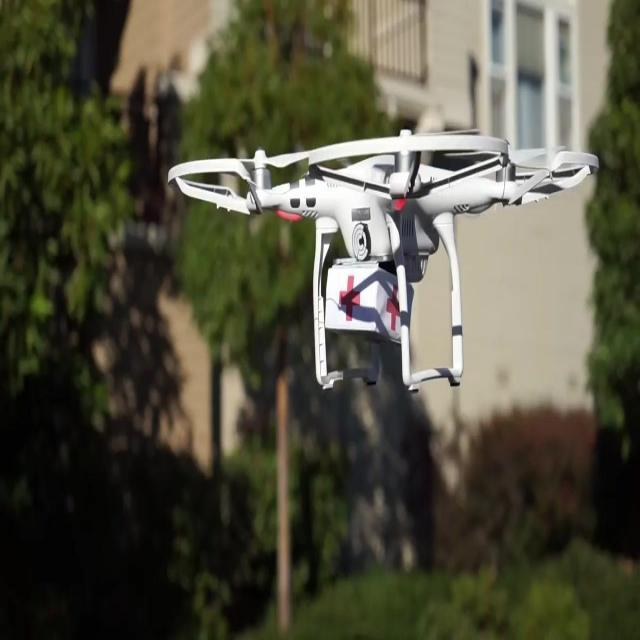UAV: (167, 123, 599, 394)
